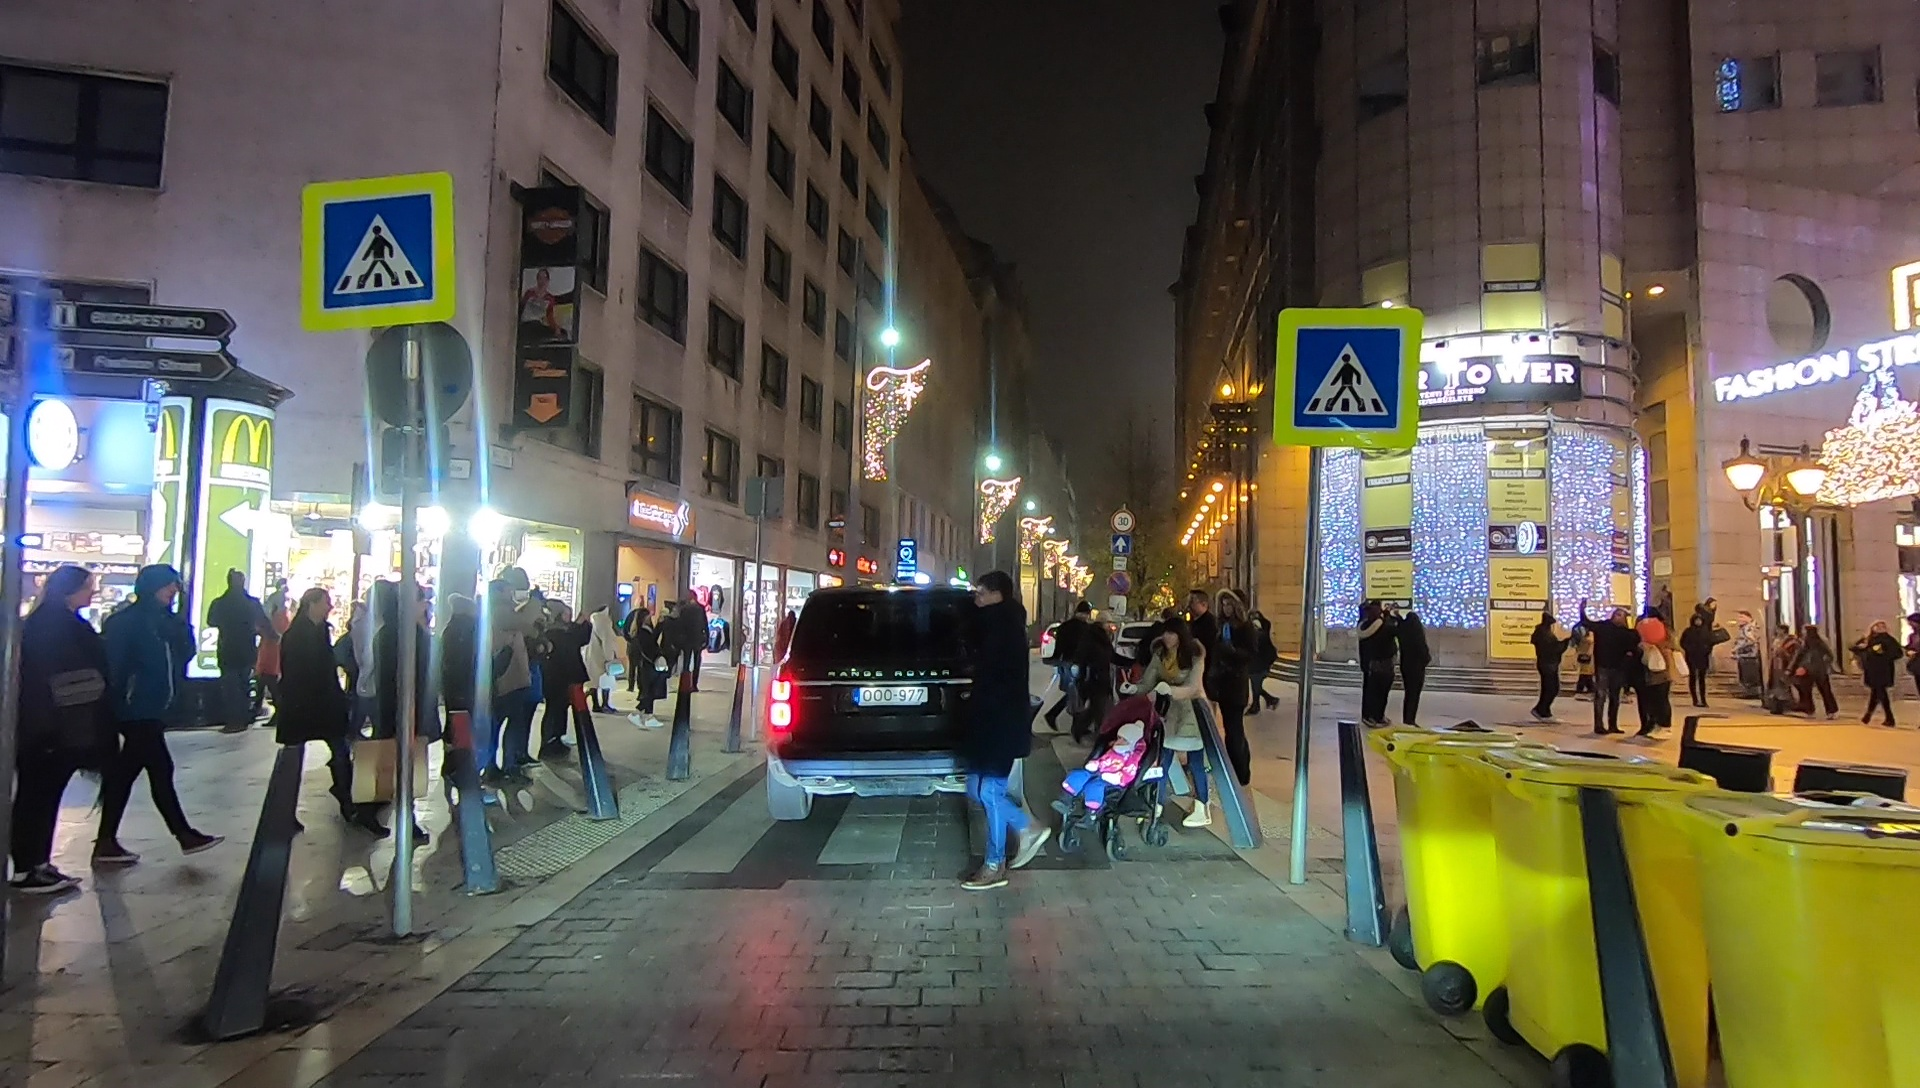person: (110, 543, 216, 860), (954, 576, 1047, 891), (20, 562, 105, 893), (286, 591, 348, 829), (1147, 624, 1207, 828), (444, 597, 494, 804), (487, 581, 535, 772), (213, 564, 261, 732), (1578, 598, 1634, 734), (1211, 592, 1248, 788), (1045, 600, 1092, 737), (547, 600, 591, 741), (1632, 606, 1673, 742), (1353, 593, 1392, 722), (1854, 622, 1900, 731), (629, 609, 664, 730), (586, 603, 622, 719), (1798, 622, 1838, 722), (1243, 604, 1281, 714), (1531, 609, 1567, 722), (1086, 616, 1116, 736), (1401, 609, 1428, 718), (1768, 618, 1798, 711), (681, 591, 706, 695), (1681, 618, 1712, 704), (1695, 597, 1724, 681), (1734, 607, 1761, 691), (660, 597, 681, 689)
